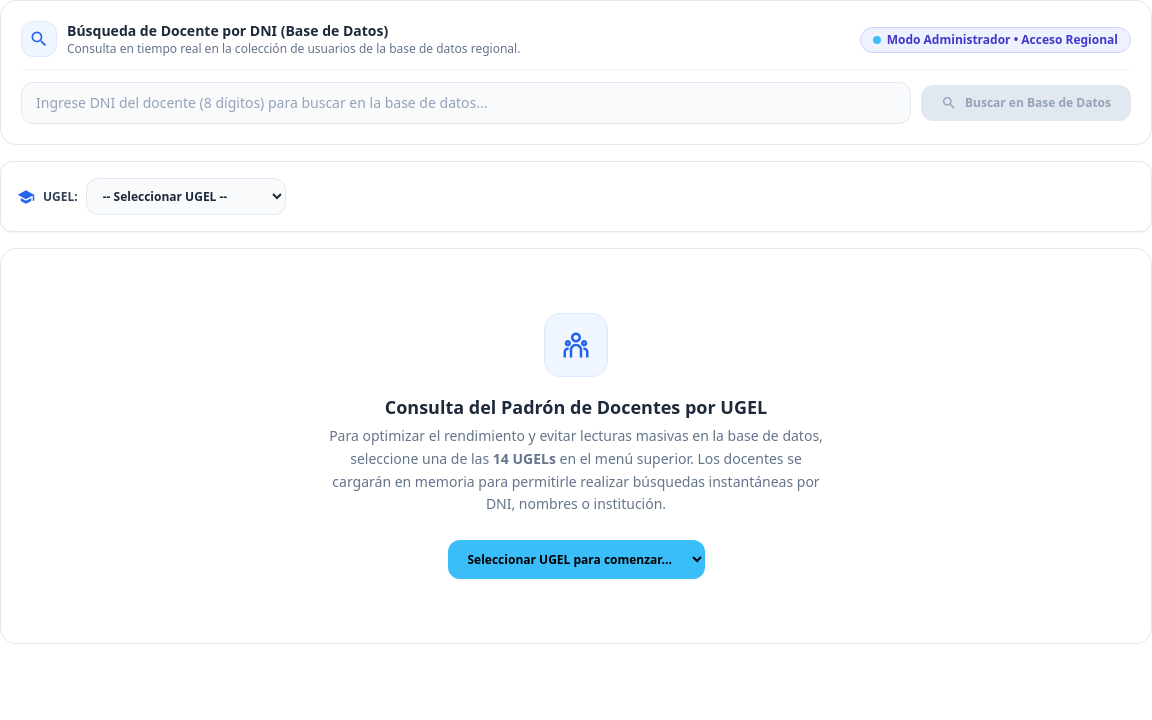
Test: PadronDocentesUgelTab › Carga docentes de la UGEL seleccionada y renderiza la tabla
The image size is (1152, 720).
Seleccionamos San Román (id: 2)
Select "UGEL San Román" in the dropdown next to "UGEL:" at (186, 196), box [86, 178, 286, 215]
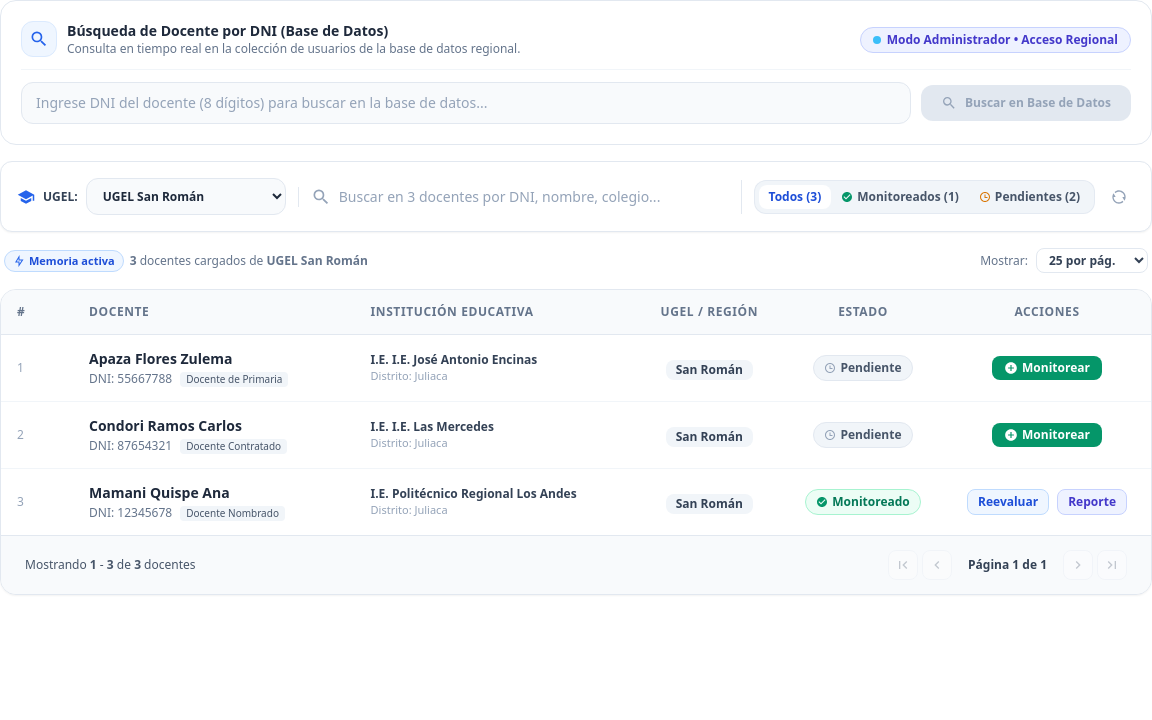
Expected: the text "Mamani Quispe Ana" is shown, [89, 483, 230, 502]
Expected: the text "Condori Ramos Carlos" is shown, [89, 416, 242, 435]
Expected: the text "Apaza Flores Zulema" is shown, [89, 349, 232, 368]
